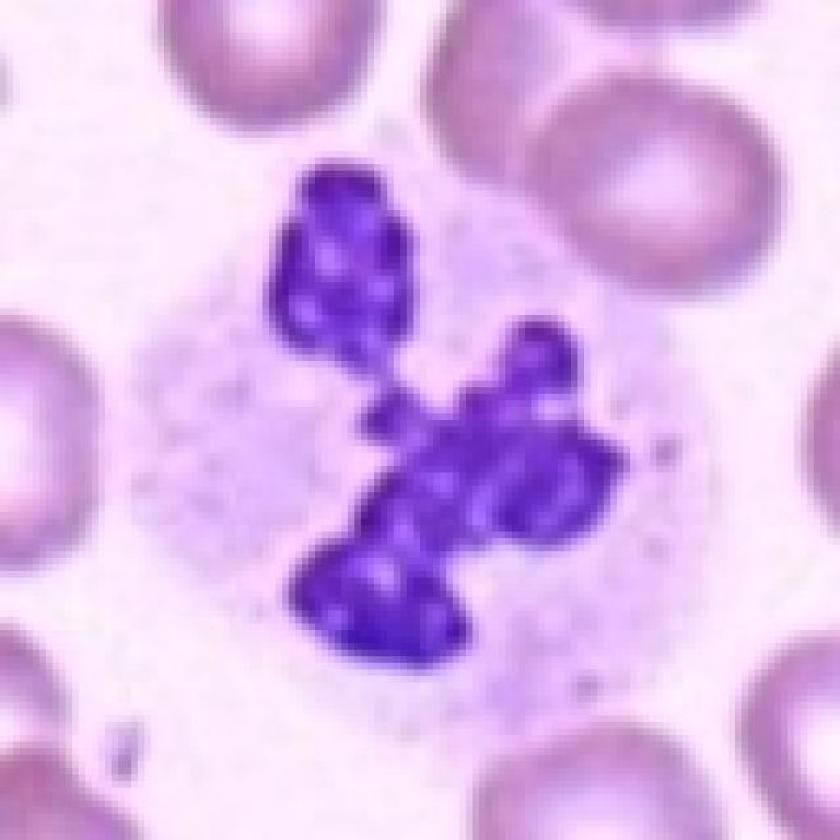neutrophil: (97, 92, 770, 678)
